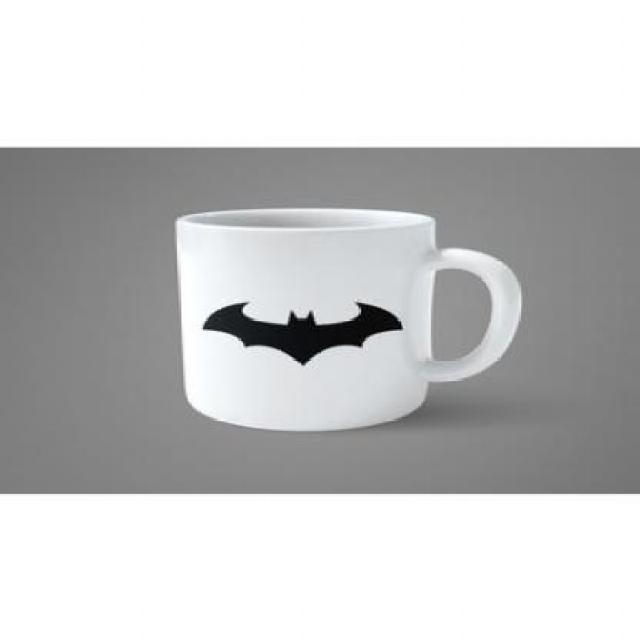taza: (173, 207, 526, 430)
